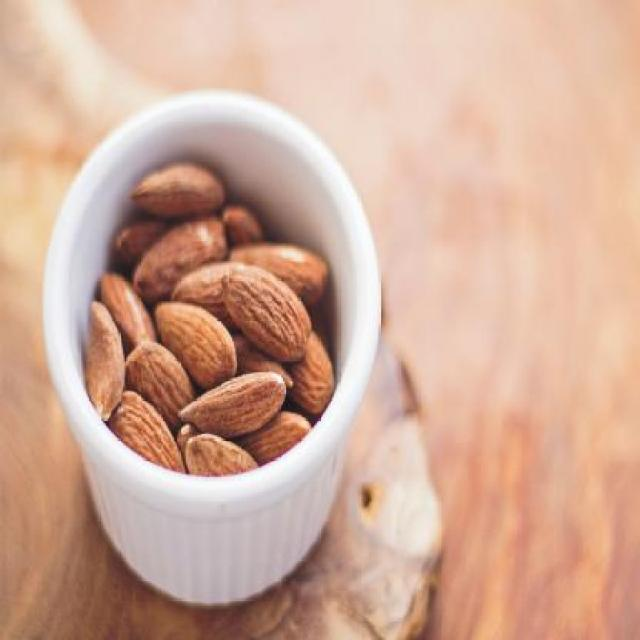Frutta secca: (81, 174, 334, 472)
